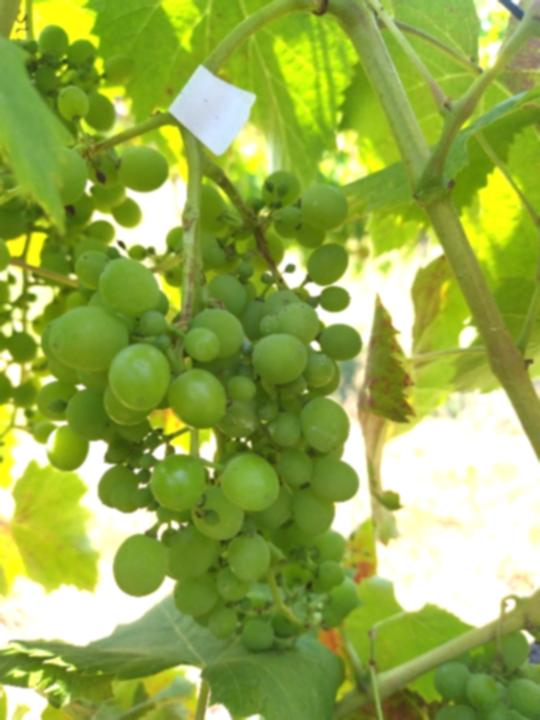grape: (30, 82, 376, 654)
